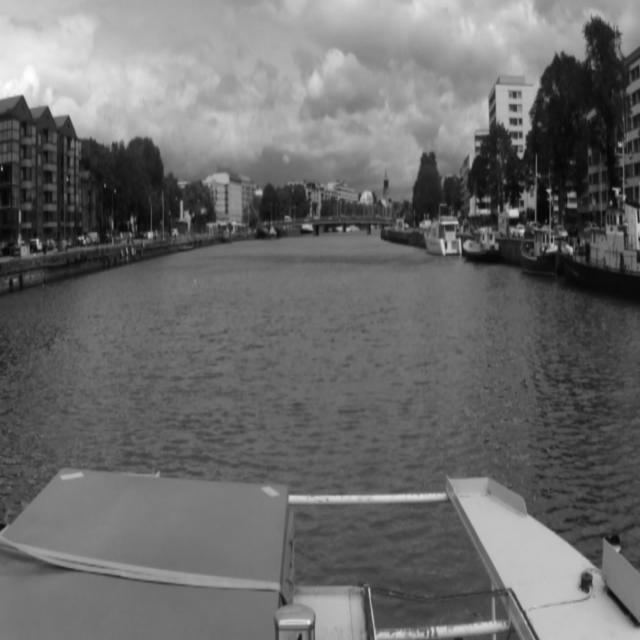ship: (559, 191, 637, 301), (423, 206, 462, 260), (463, 212, 503, 260), (520, 226, 556, 276), (222, 229, 233, 243)
